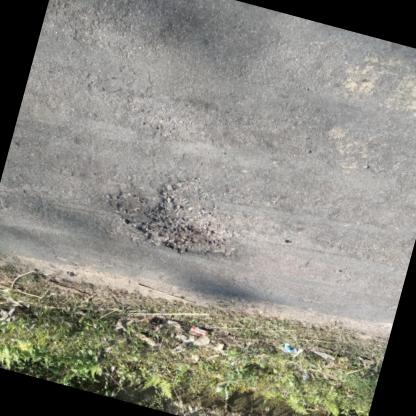pothole: (124, 175, 252, 269)
